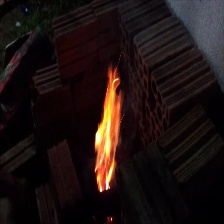fire: (91, 63, 126, 193)
